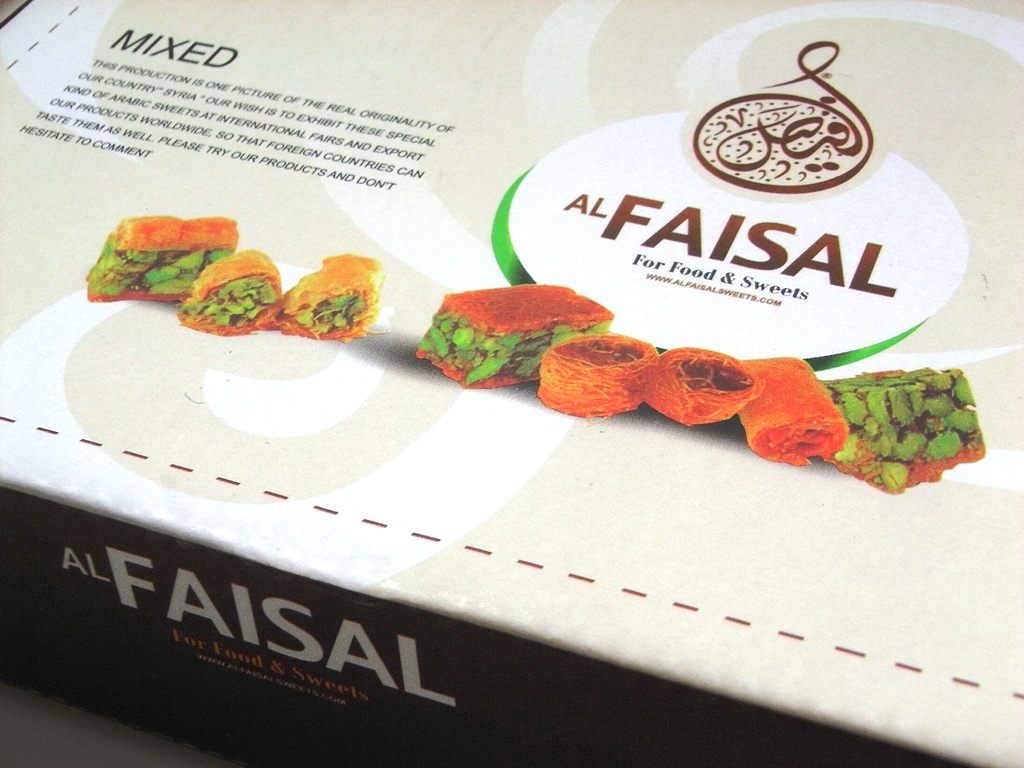sandwich: (89, 213, 247, 315), (275, 251, 388, 340), (177, 251, 275, 340)
